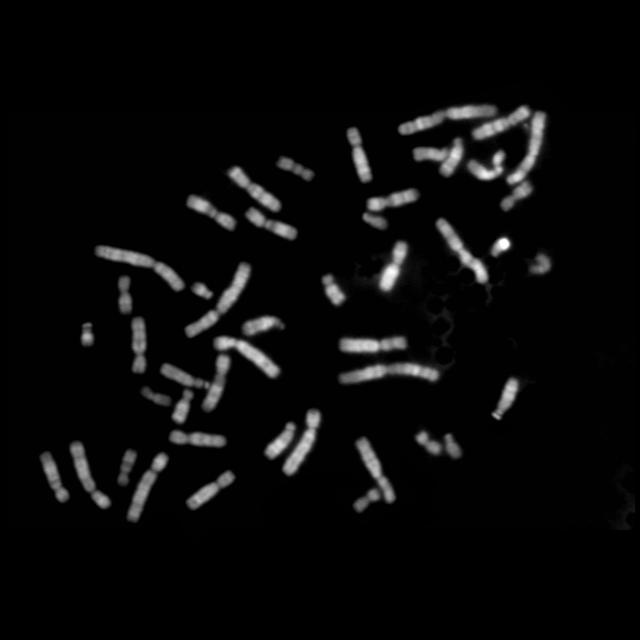chromosome: (185, 262, 251, 338), (95, 246, 183, 294), (436, 218, 488, 284), (506, 112, 546, 184), (127, 452, 167, 522), (215, 336, 280, 379), (399, 106, 498, 134), (70, 441, 110, 509), (282, 408, 320, 476), (228, 165, 282, 212), (356, 437, 394, 503), (338, 361, 439, 385), (473, 105, 531, 142), (186, 471, 234, 509), (200, 354, 230, 412), (246, 208, 298, 240), (187, 196, 235, 230), (39, 452, 68, 502), (378, 242, 408, 290), (348, 126, 372, 182), (339, 336, 407, 354), (161, 364, 204, 392), (368, 187, 418, 211), (492, 376, 518, 419), (468, 151, 504, 181), (266, 422, 294, 460), (501, 180, 534, 212), (275, 158, 313, 184), (172, 430, 226, 448), (441, 138, 463, 178), (244, 316, 286, 336), (132, 318, 146, 372), (172, 388, 193, 424), (323, 274, 345, 306), (116, 450, 136, 484), (415, 430, 441, 456), (352, 489, 380, 511), (118, 275, 134, 313), (362, 212, 388, 234), (140, 388, 170, 407), (412, 148, 450, 162), (528, 253, 552, 275), (444, 433, 462, 459), (192, 282, 213, 300), (490, 238, 510, 256), (82, 324, 94, 346)
